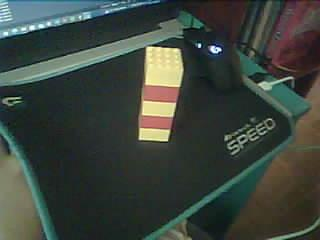lego: (138, 46, 184, 142)
